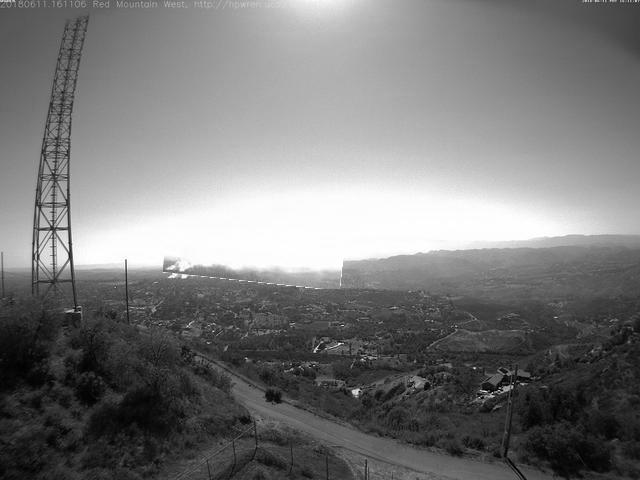smoke: (165, 231, 345, 287)
